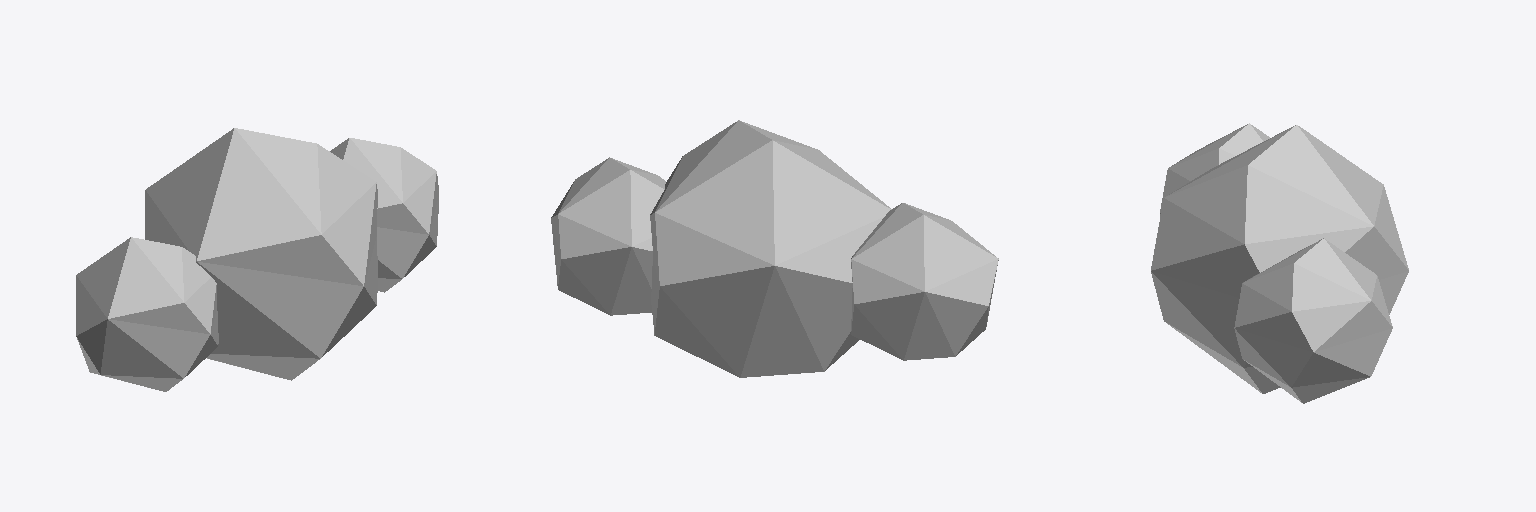
The model's file is cloud2.obj.
3 renders of one model, left to right at view 1: azimuth 30°, elevation 25°; view 2: azimuth 150°, elevation 25°; view 3: azimuth 270°, elevation 25°, orthographic.
Parts seen in each view (by area): view 1: Icosphere_Icosphere.005; view 2: Icosphere_Icosphere.005; view 3: Icosphere_Icosphere.005.
Boxes of the visible parts, box(x1,y1,x2,y2) form: Icosphere_Icosphere.005: box(76, 128, 438, 391); Icosphere_Icosphere.005: box(551, 120, 998, 377); Icosphere_Icosphere.005: box(1151, 123, 1408, 403).
Bounding box in the file's own units: 3.55 × 2.12 × 1.99.